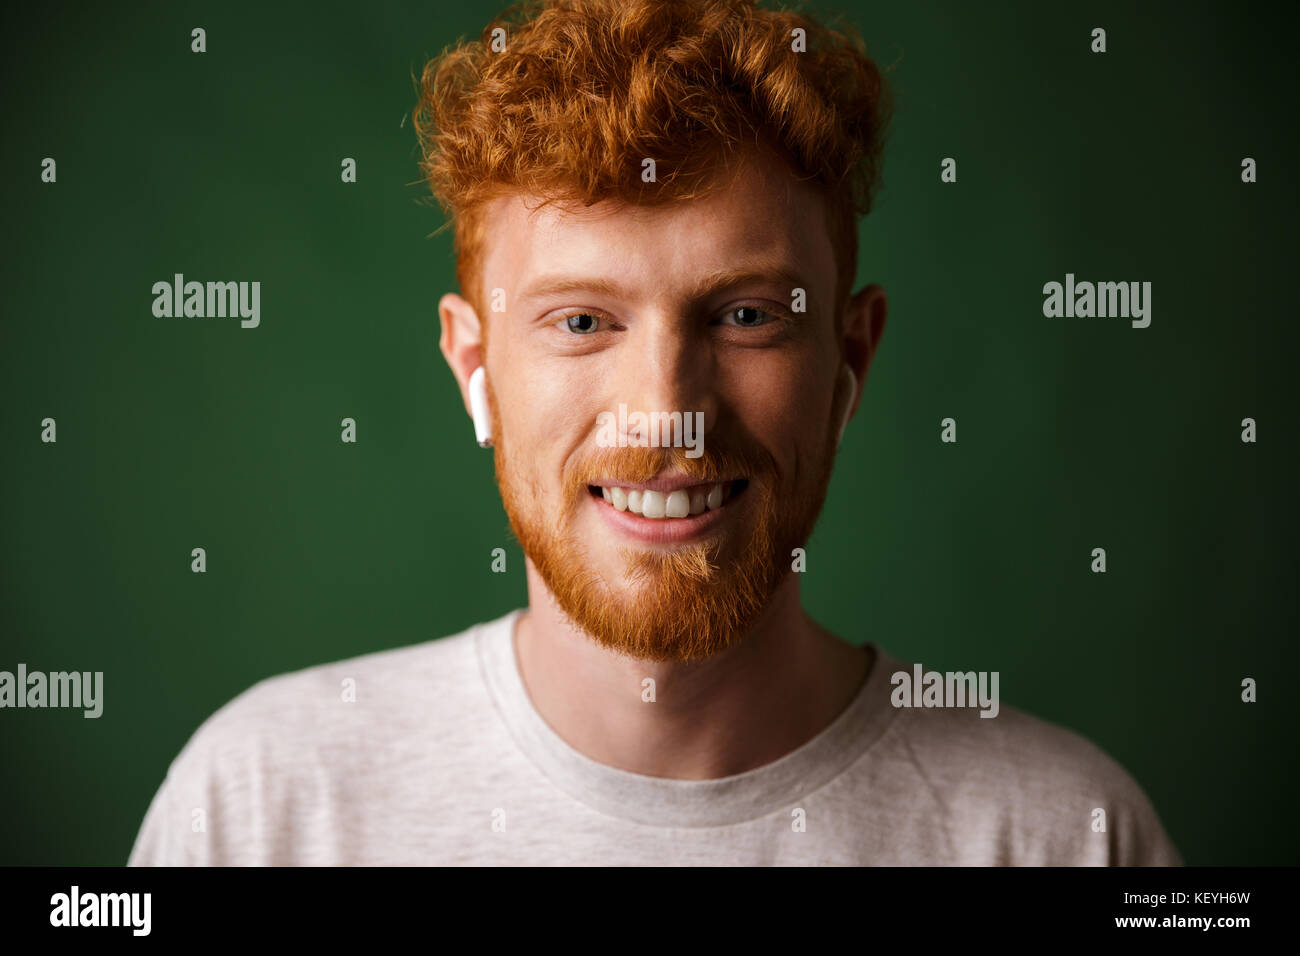earphone: (826, 281, 888, 449), (440, 295, 501, 448)
